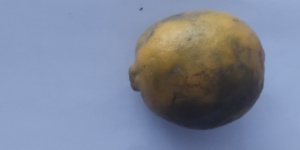BAD: (127, 9, 267, 131)
